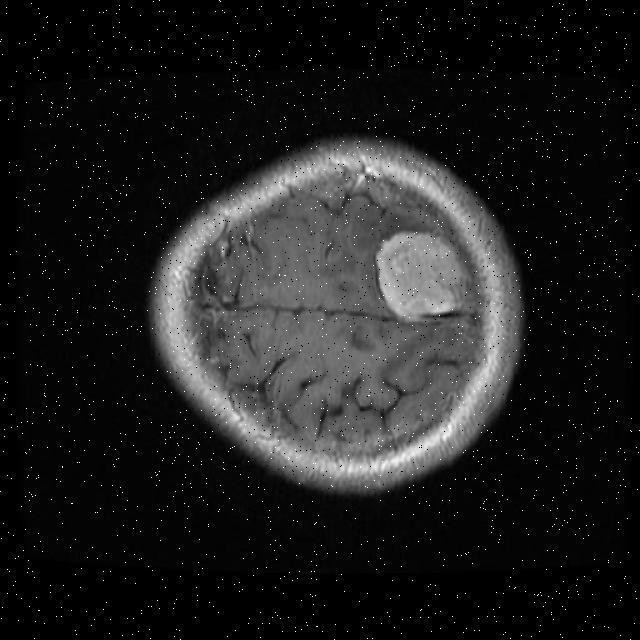Meningioma: (377, 232, 472, 320)
